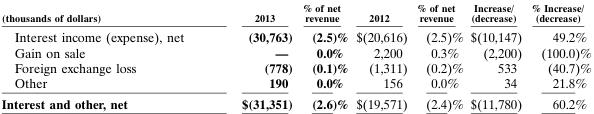table: (0, 0, 591, 110)
table column: (0, 0, 212, 110), (212, 0, 297, 110), (526, 0, 591, 110), (351, 0, 411, 110), (466, 0, 526, 110), (411, 0, 466, 110), (297, 0, 351, 110)
table column header: (0, 0, 591, 26)
table row: (0, 0, 591, 26), (0, 26, 591, 44), (0, 92, 591, 110), (0, 75, 591, 92), (0, 59, 591, 75), (0, 44, 591, 59)
